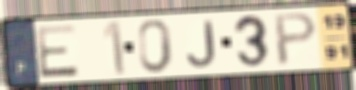0: (136, 17, 175, 75)
1: (102, 19, 128, 79)
3: (232, 12, 274, 71)
E: (34, 23, 81, 81)
J: (185, 18, 219, 69)
P: (273, 10, 320, 69)
